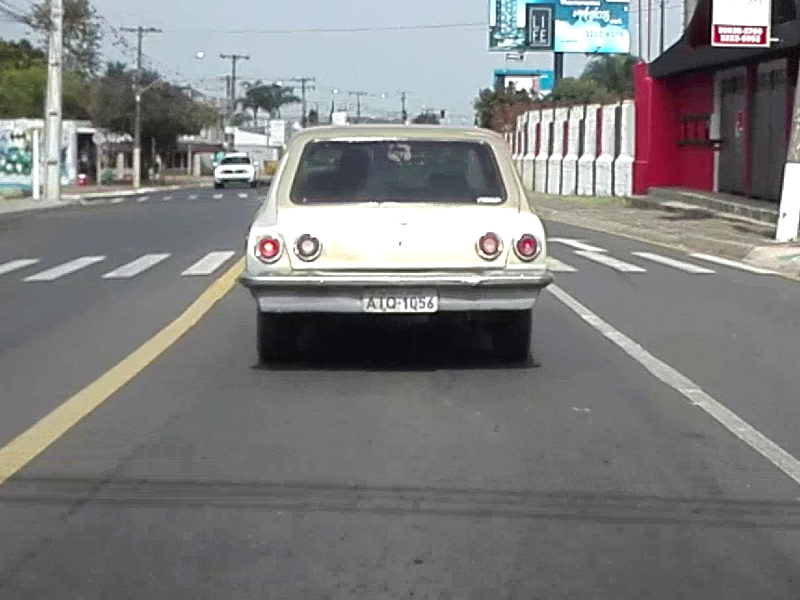placa: (362, 288, 439, 313)
